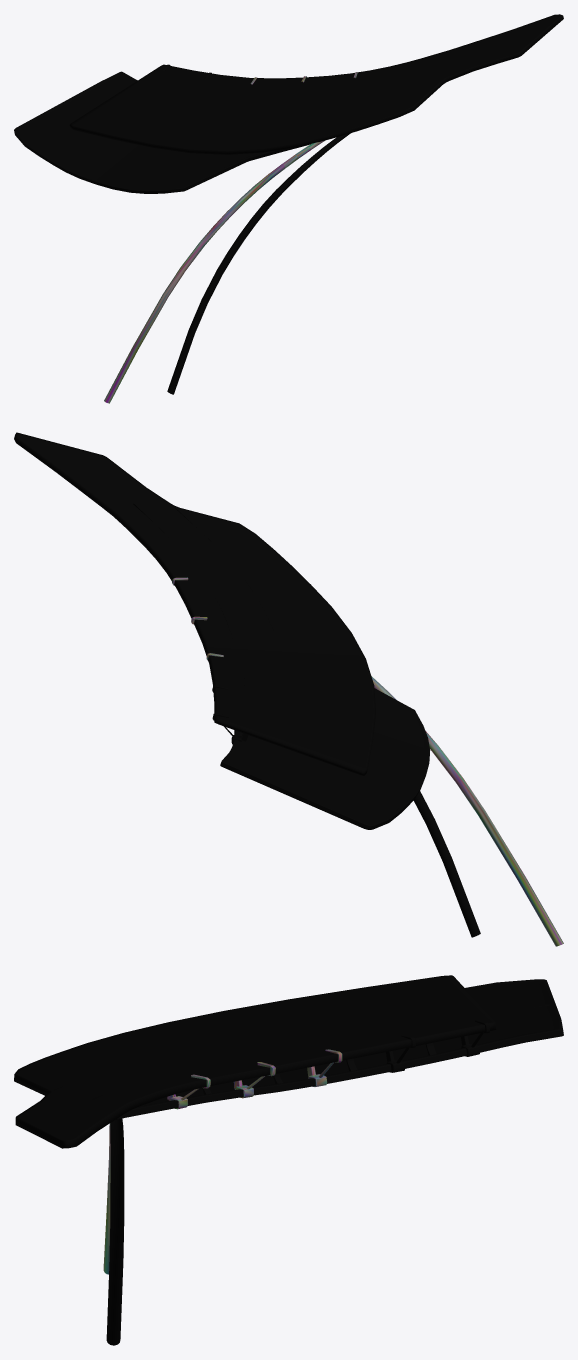
Rendered from CS_EmblemWing_00.gltf.
3 views of the same model, one above another, from view 1: azimuth 30°, elevation 25°; view 2: azimuth 150°, elevation 25°; view 3: azimuth 270°, elevation 25° (orthographic). The views are drawn at different scales.
Visible parts, largest first — view 1: CS_EmblemWing_00; view 2: CS_EmblemWing_00; view 3: CS_EmblemWing_00.
Boxes of the visible parts, left/top/right/bottom form: CS_EmblemWing_00: left=14, top=14, right=563, bottom=403; CS_EmblemWing_00: left=14, top=432, right=563, bottom=946; CS_EmblemWing_00: left=14, top=975, right=563, bottom=1345.
Bounding box in the file's own units: 300 × 191 × 179.
